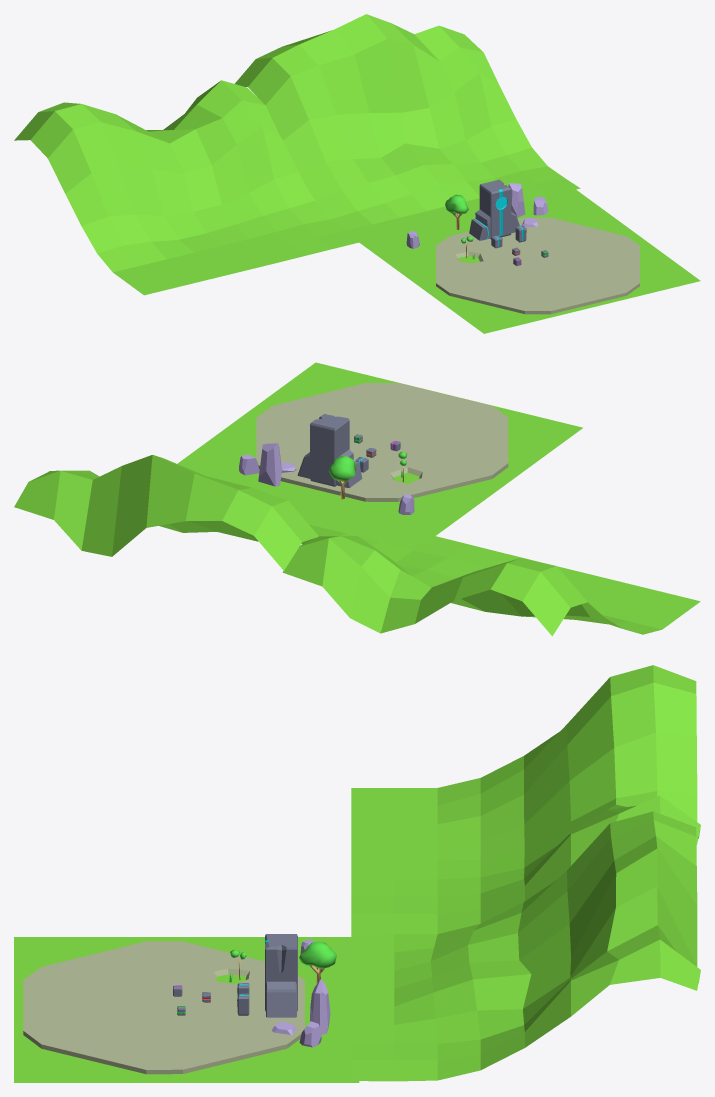
Rendered from tron.fbx.
The picture shows the model from 3 angles, top to bottom: view 1: azimuth 30°, elevation 25°; view 2: azimuth 150°, elevation 25°; view 3: azimuth 270°, elevation 25°; orthographic projection. The views are drawn at different scales.
Visible parts, largest first — view 1: Plane.009, Plane.010, Cylinder.009, Plane.008, Cube.016; view 2: Plane.010, Plane.009, Cylinder.009, Plane.008, Cube.016, small_rock_04.007, tree.001; view 3: Plane.009, Plane.010, Cylinder.009, Plane.008, Cube.016, tree.001, small_rock_04.007.
Part boxes in pixels (x1,y1,x2,y2): Plane.009: (235,14,580,242); Plane.010: (14,80,362,295); Cylinder.009: (436,217,639,314); Plane.008: (359,189,700,333); Cube.016: (469,179,519,240); Plane.010: (282,535,700,636); Plane.009: (14,455,429,570); Cylinder.009: (256,383,508,501); Plane.008: (177,362,582,535); Cube.016: (297,414,362,487); small_rock_04.007: (258,443,281,486); tree.001: (328,455,356,499); Plane.009: (351,811,700,1081); Plane.010: (351,665,700,934); Cylinder.009: (23,941,304,1074); Plane.008: (14,937,359,1082); Cube.016: (265,934,297,1017); tree.001: (299,941,336,983); small_rock_04.007: (310,979,330,1034).
Size of the model in its own units: 21071 by 5642 by 20606.
